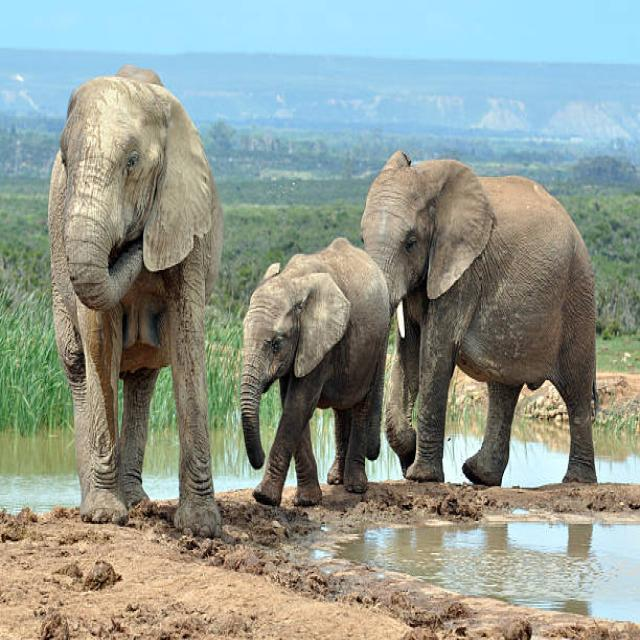Elephant: (362, 90, 614, 521), (47, 62, 220, 580), (234, 200, 389, 546)
